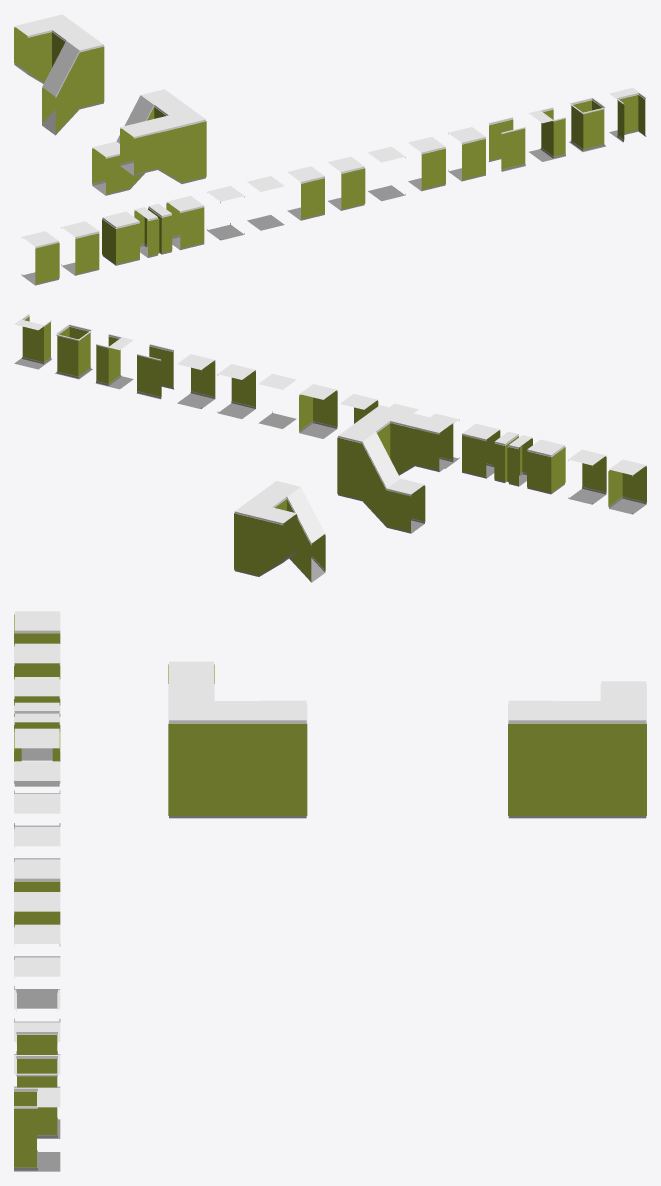
The model's file is maze.glb.
3 renders of one model, top to bottom at view 1: azimuth 30°, elevation 25°; view 2: azimuth 150°, elevation 25°; view 3: azimuth 270°, elevation 25°, orthographic. The views are drawn at different scales.
Parts seen in each view (by area): view 1: maze_stairs_right-col, maze_stairs_left-col, corridor_I.001-noimp, corridor_C-col, maze_column-col, corrido_I-col, corridor_H-col, maze_wall_middel-col, corridor_I.002-noimp, corridor_T-col, corridor_L-col, maze_corner-col (+8 smaller); view 2: maze_stairs_right-col, maze_stairs_left-col, corridor_I.002-noimp, maze_corner-col, corridor_I.001-noimp, corridor_L-col, corridor_C-col, maze_column-col, corrido_I-col, corridor_H-col, maze_wall_middel-col, corridor_to_maze_right-col (+6 smaller); view 3: maze_stairs_left-col, maze_stairs_right-col, maze_wall_end-col.002, corridor_L-col, maze_corner-col, maze_column-col, corridor_C-col, corridor_to_maze_left-col, corridor_H-col, maze_wall_end-col, corridor_X-col, corrido_I-col (+6 smaller).
Boxes of the visible parts, x1,y1,x2,y2 form: maze_stairs_right-col: (14, 14, 104, 135); maze_stairs_left-col: (116, 89, 206, 189); corridor_I.001-noimp: (120, 121, 157, 175); corridor_C-col: (102, 211, 139, 265); maze_column-col: (569, 97, 606, 152); corrido_I-col: (166, 196, 204, 250); corridor_H-col: (134, 203, 172, 257); maze_wall_middel-col: (488, 117, 525, 171); corridor_I.002-noimp: (92, 141, 129, 195); corridor_T-col: (61, 221, 99, 275); corridor_L-col: (21, 231, 59, 285); maze_corner-col: (327, 156, 365, 210); maze_stairs_right-col: (234, 481, 325, 582); maze_stairs_left-col: (337, 405, 428, 527); corridor_I.002-noimp: (386, 478, 425, 533); maze_corner-col: (299, 384, 337, 438); corridor_I.001-noimp: (415, 417, 453, 471); corridor_L-col: (608, 459, 646, 514); corridor_C-col: (527, 439, 565, 494); maze_column-col: (55, 324, 92, 379); corrido_I-col: (462, 423, 500, 478); corridor_H-col: (494, 431, 532, 486); maze_wall_middel-col: (136, 344, 174, 399); corridor_to_maze_right-col: (177, 354, 215, 408); maze_stairs_left-col: (168, 681, 307, 818); maze_stairs_right-col: (508, 681, 646, 818); maze_wall_end-col.002: (14, 1087, 60, 1171); corridor_L-col: (14, 611, 60, 679); maze_corner-col: (14, 859, 60, 927); maze_column-col: (14, 1055, 60, 1138); corridor_C-col: (14, 677, 60, 760); corridor_to_maze_left-col: (14, 924, 60, 1008); corridor_H-col: (14, 702, 60, 786); maze_wall_end-col: (14, 1022, 60, 1087); corridor_X-col: (14, 761, 60, 829); corrido_I-col: (14, 728, 60, 793).
Size of the model in its own units: 38 by 4.7 by 20.5.
